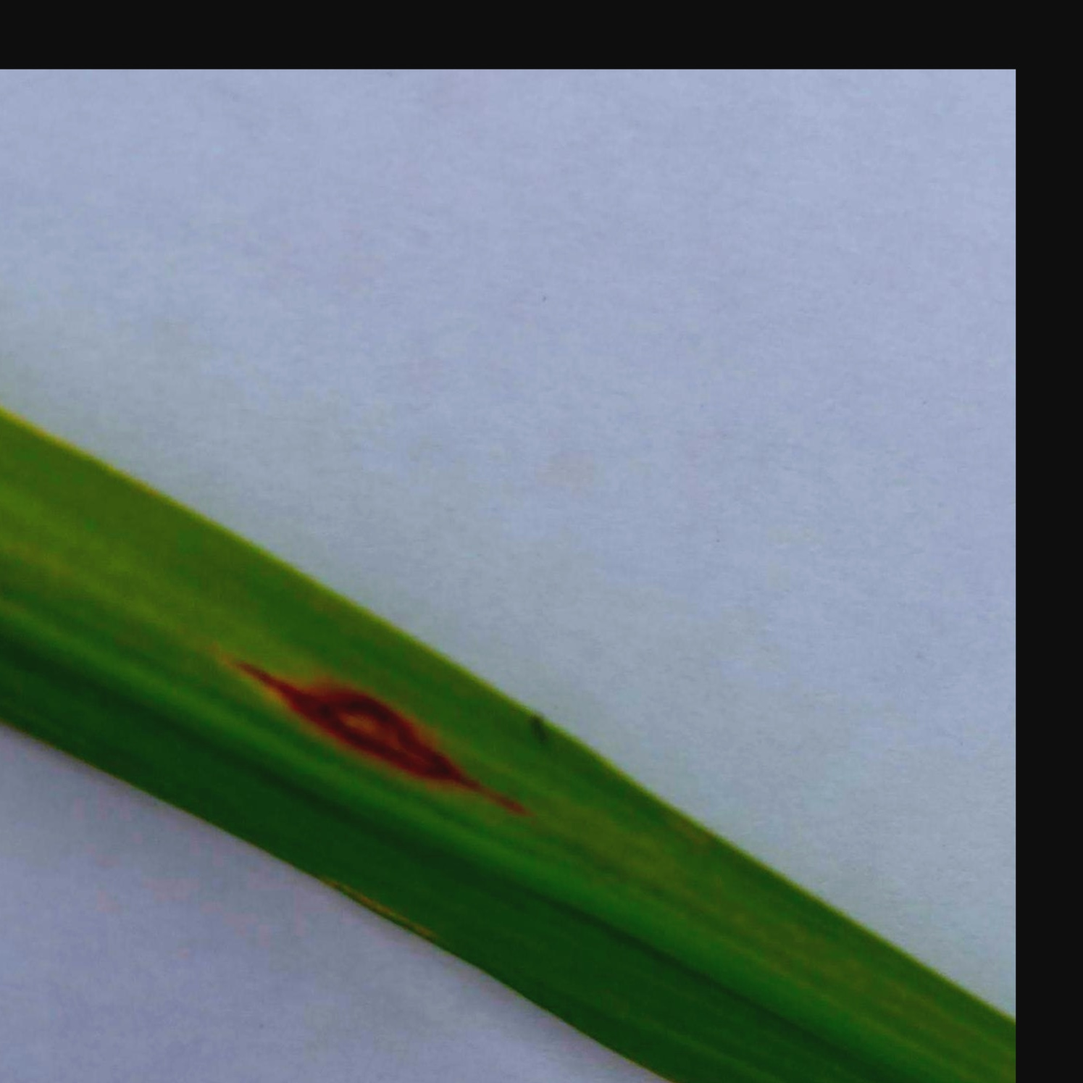Brown_Spot: (212, 555, 549, 850)
